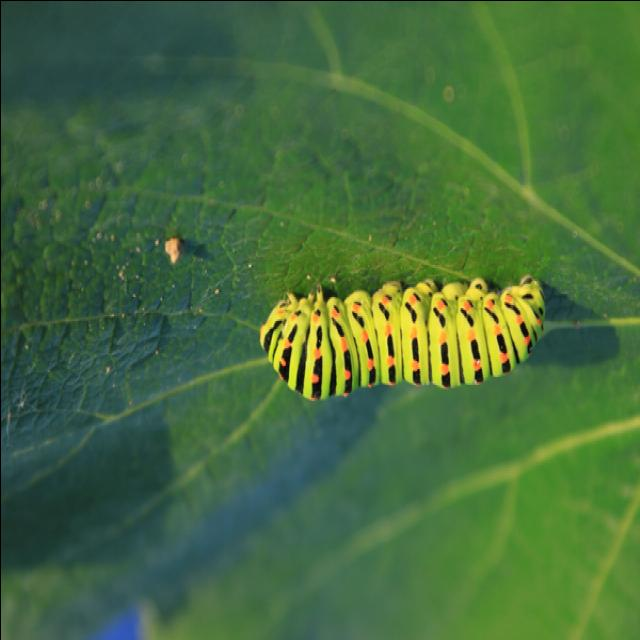caterpillar: (256, 270, 550, 396)
